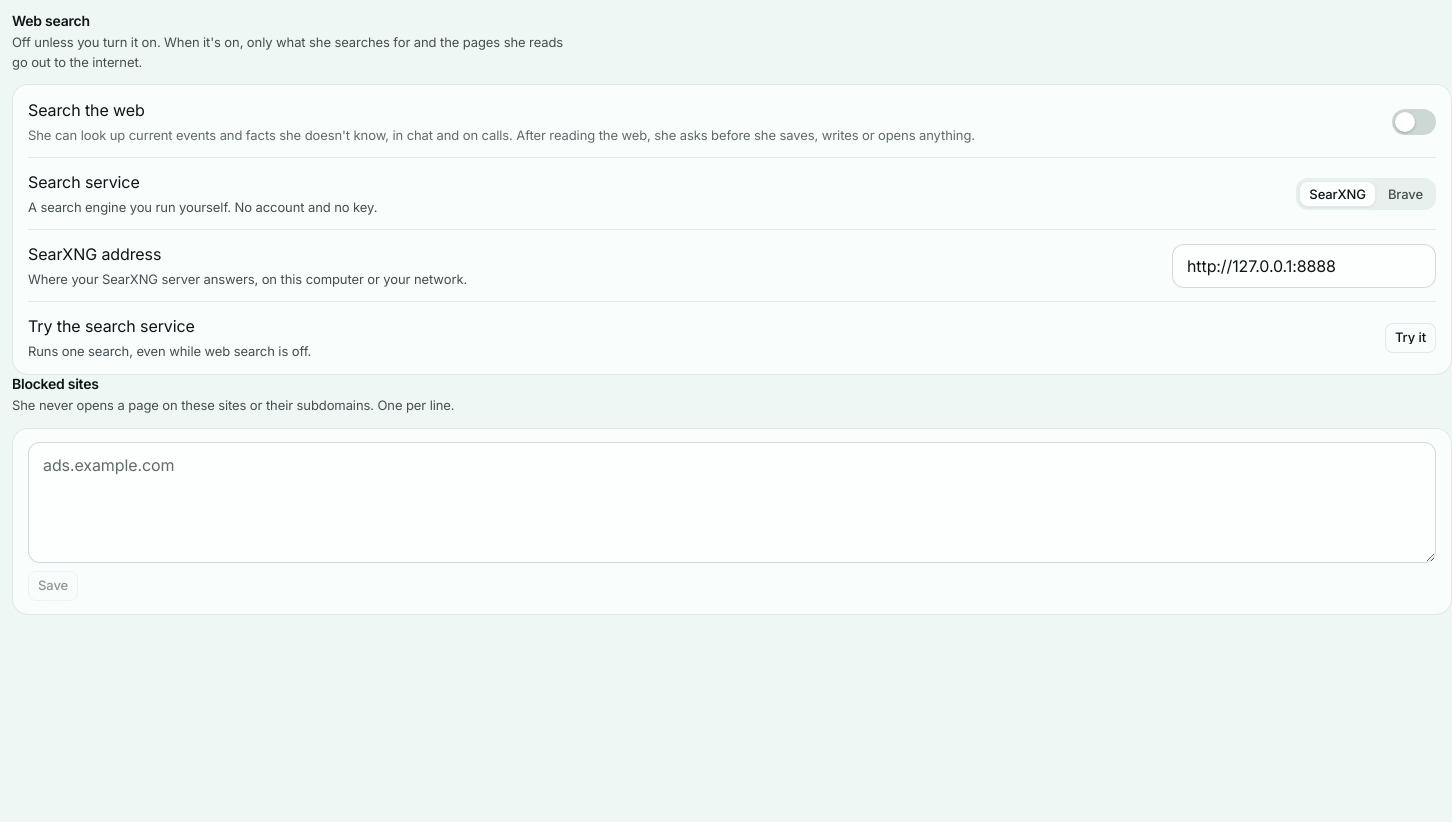
Test: web search settings › says what trying SearXNG found, in words
Click the button "Try it".
click(1410, 338)  # box [1385,323,1436,353]
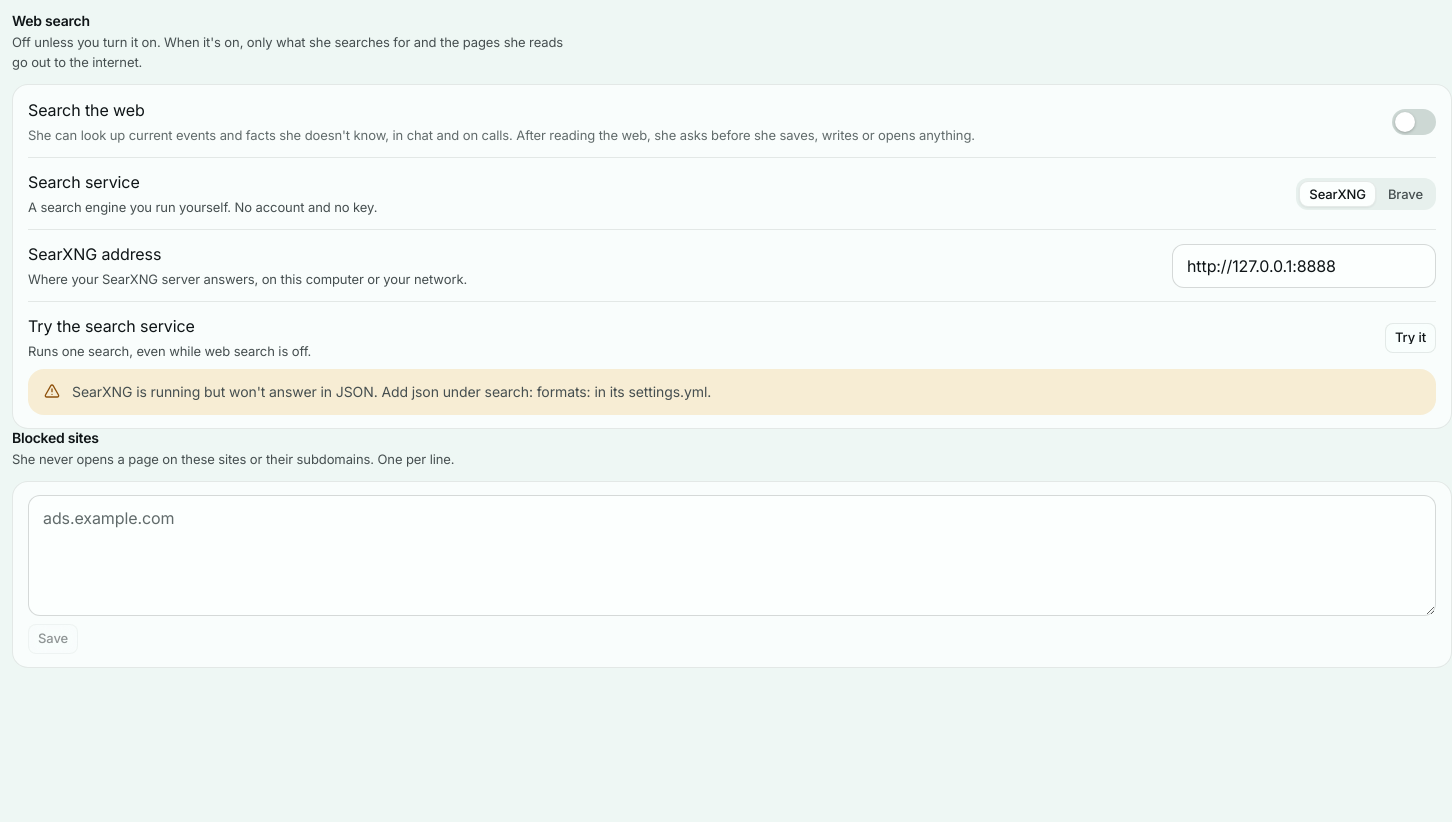
Result: the text "Add json under search: formats:" is shown at [72,383,711,400]
